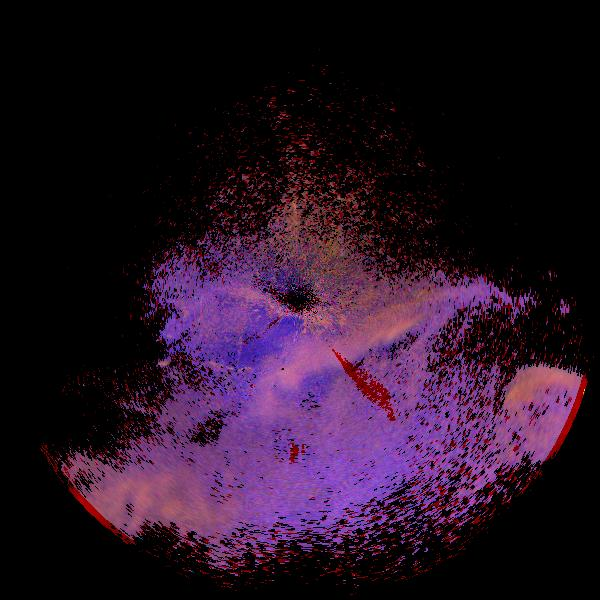roost: (152, 357, 173, 378)
